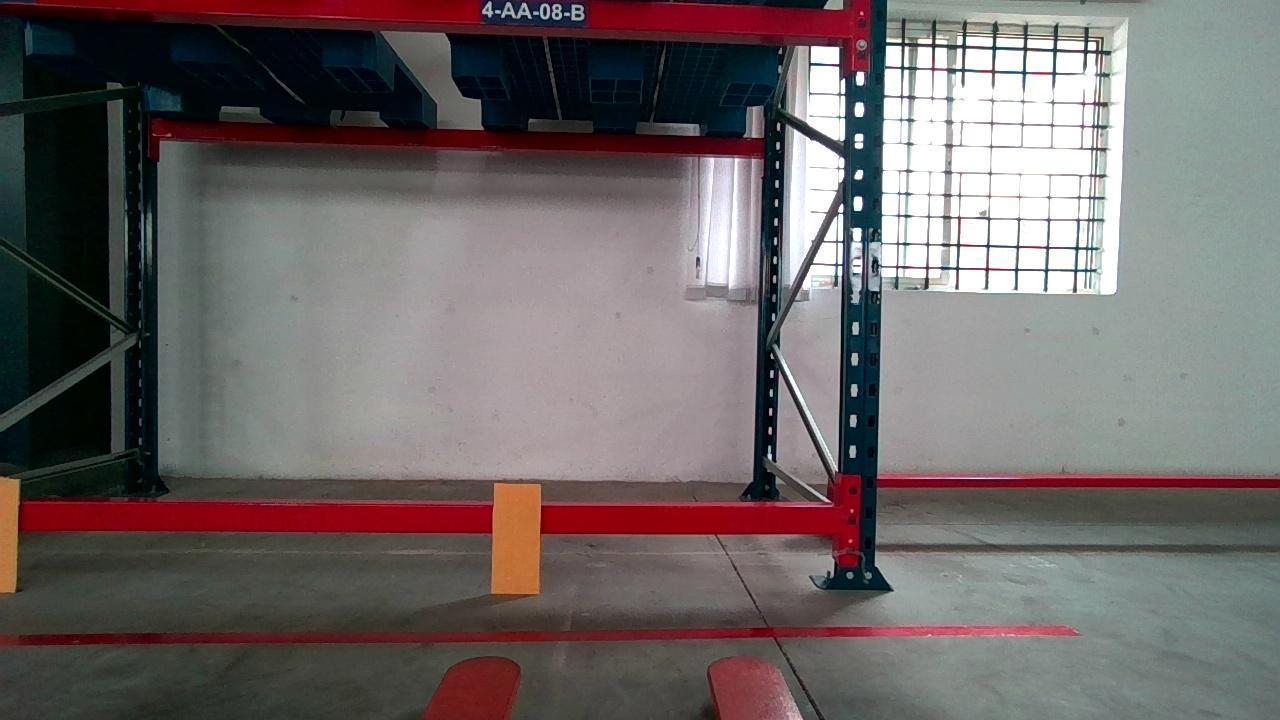red_line: (0, 622, 1081, 649)
